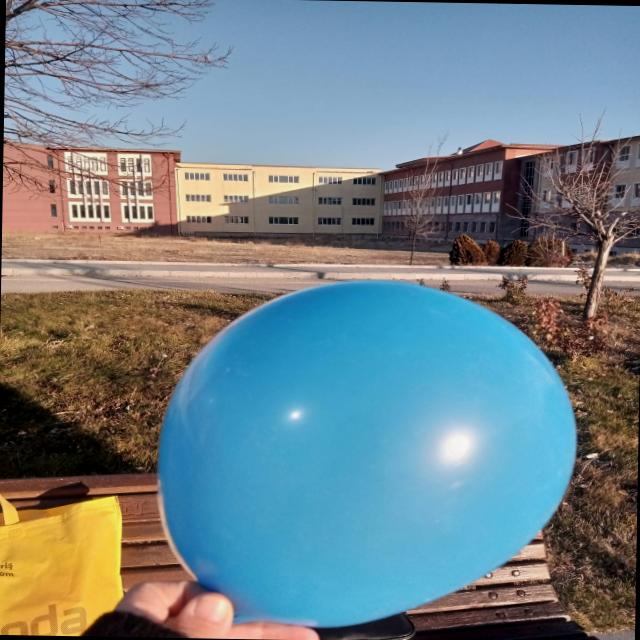balloon: (157, 280, 575, 627)
